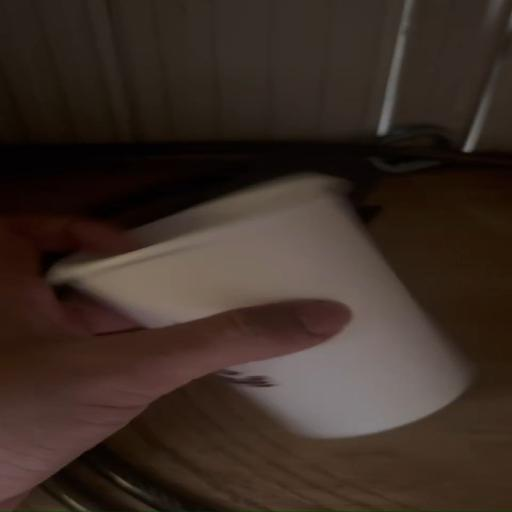Ly_giay: (47, 173, 471, 438)
